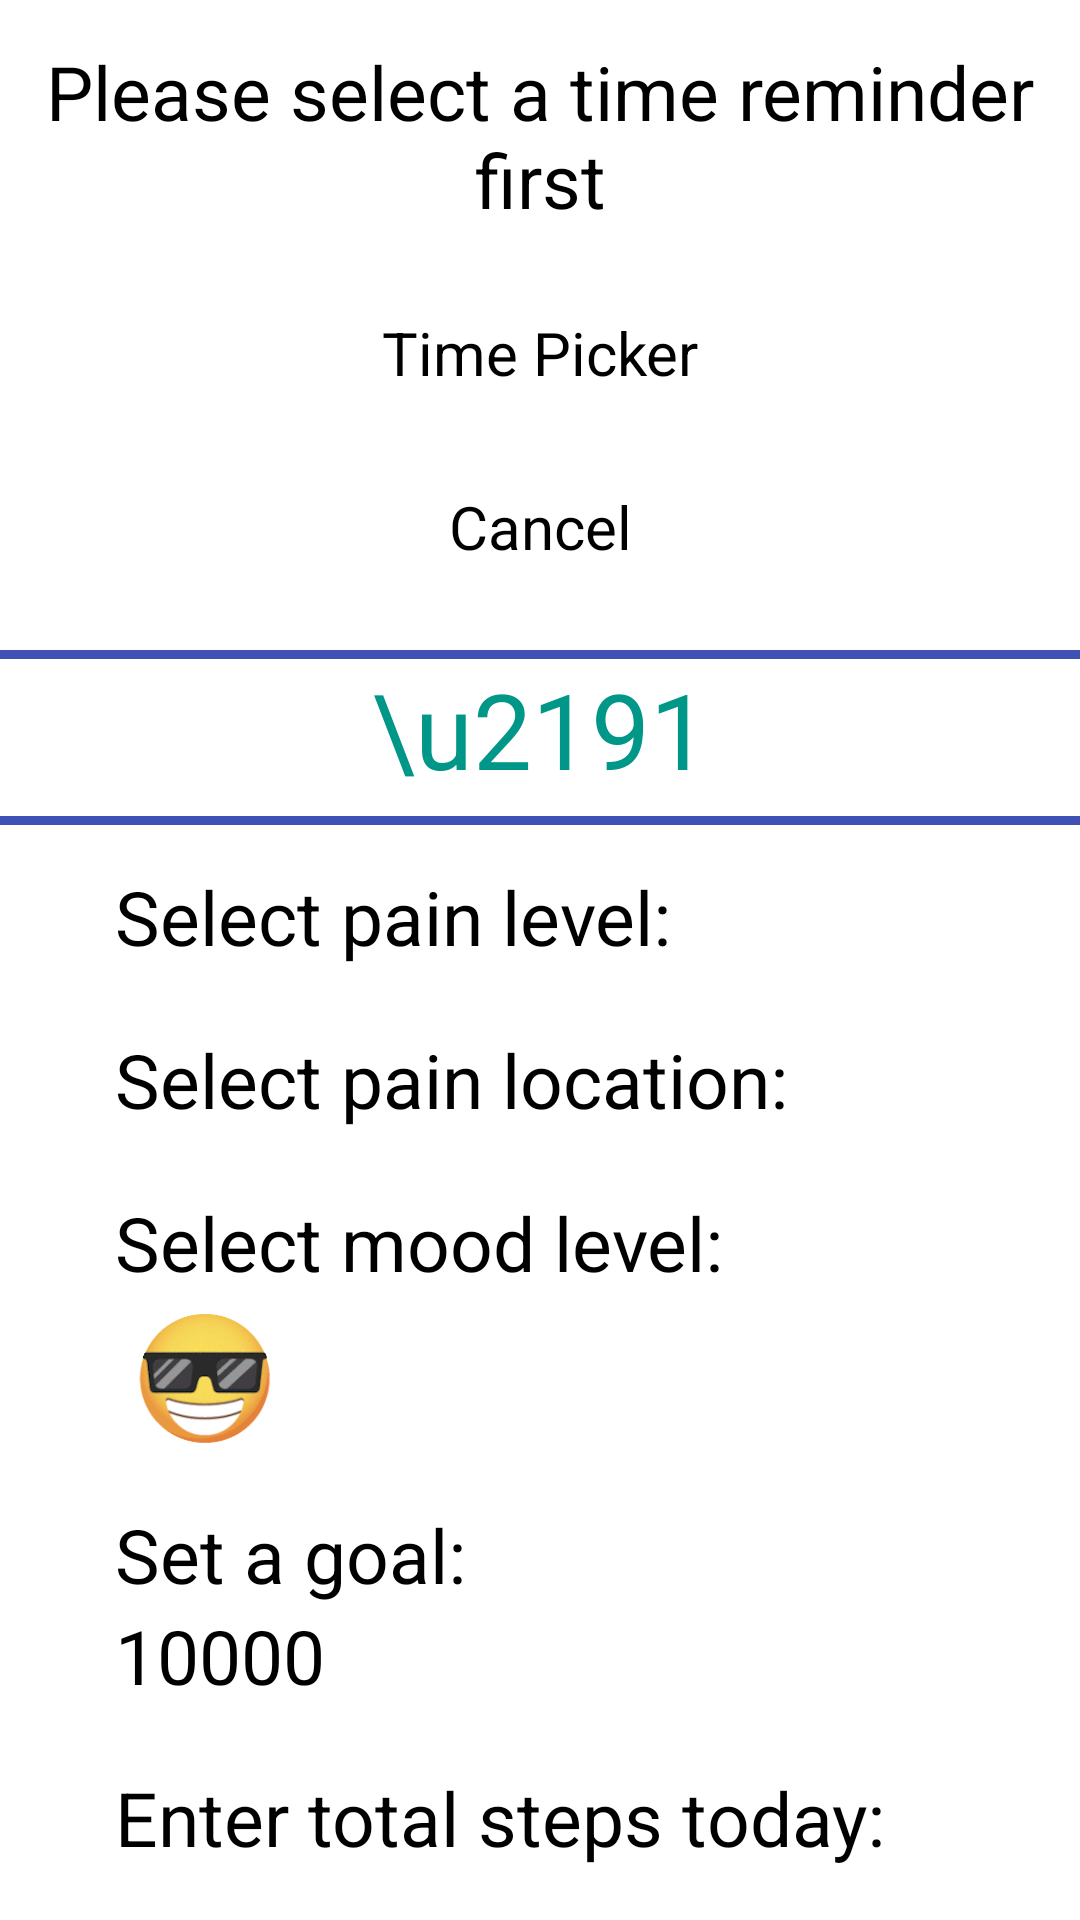

Where icons sit on this 1080*1920 app screen, as (x1, y1, x2, y2):
very good: (139, 1314, 270, 1443)
